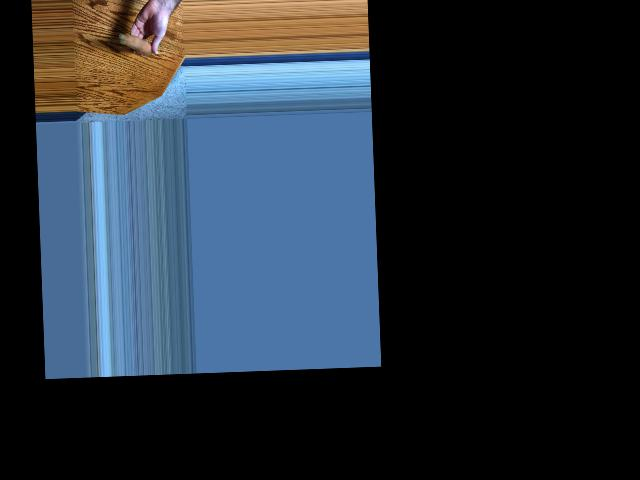sweet_potato: (118, 30, 154, 56)
